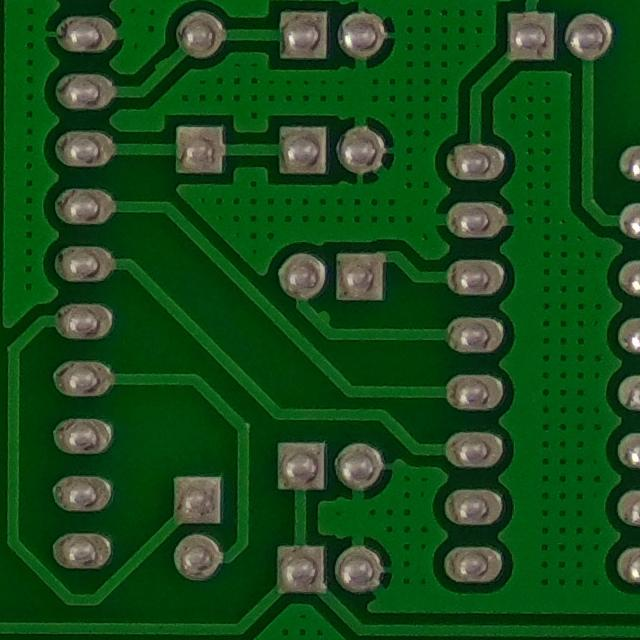spur: (304, 302, 337, 338)
